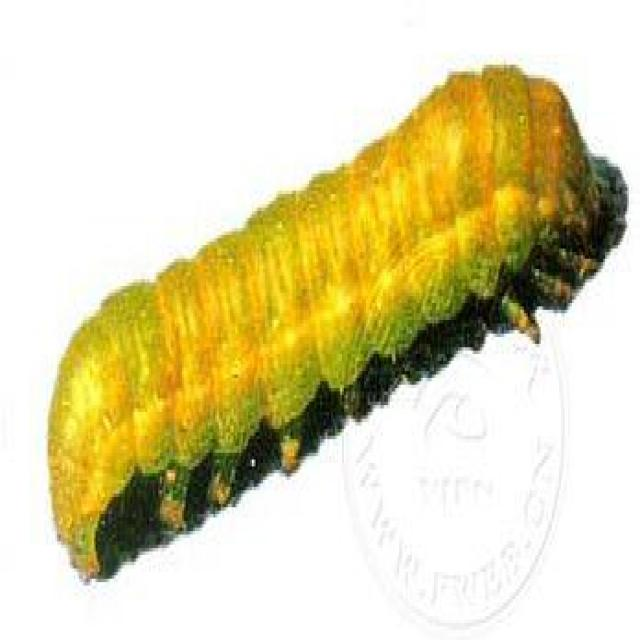BeetArmyWorm-Larva-: (40, 55, 598, 586)
